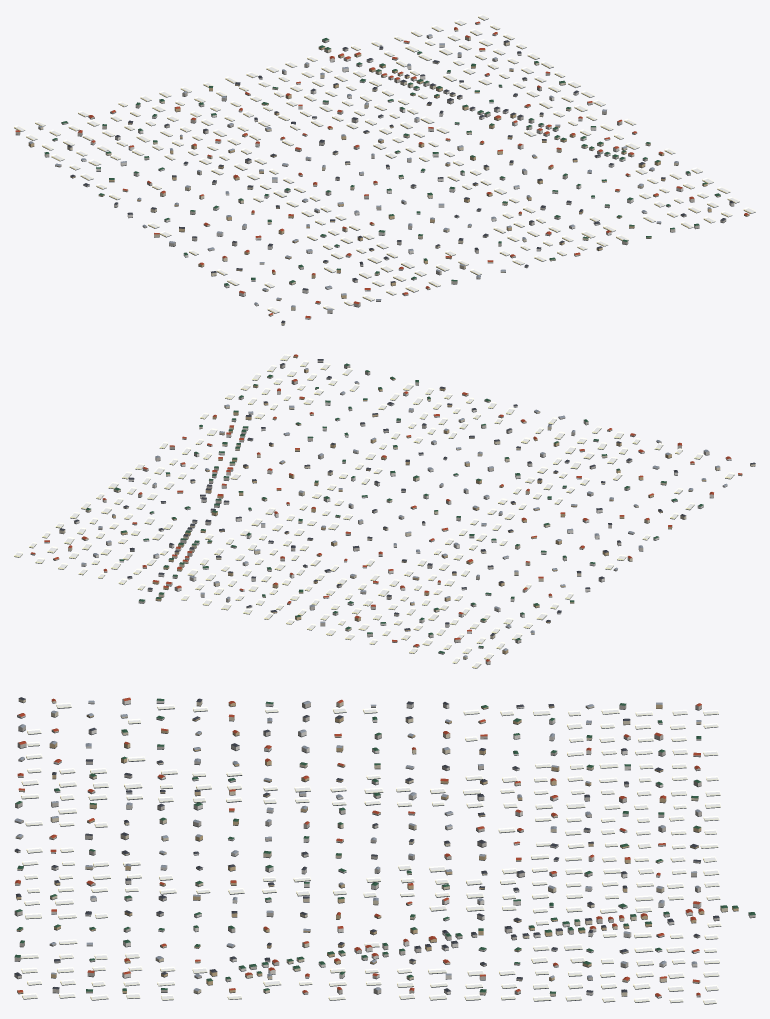
File: buildings_T_E07_S05.glb
The picture shows the model from 3 angles, top to bottom: view 1: azimuth 30°, elevation 25°; view 2: azimuth 150°, elevation 25°; view 3: azimuth 270°, elevation 25°; orthographic projection. The views are drawn at different scales.
Parts seen in each view (by area): view 1: T_E07_S05_roofs_agri_greenhouse_arch, T_E07_S05_slope_seating_foundations, T_E07_S05_walls_wall_pastel_sand_gray, T_E07_S05_walls_wall_modern_warm_white, T_E07_S05_walls_wall_french_ochre_villa, T_E07_S05_roofs_roof_pine_green_hip, T_E07_S05_walls_wall_dalat_cream_stucco, T_E07_S05_roofs_roof_slate_French_villa_hip, T_E07_S05_roofs_roof_terracotta_gable, T_E07_S05_roofs_roof_zinc_silver_gable; view 2: T_E07_S05_roofs_agri_greenhouse_arch, T_E07_S05_slope_seating_foundations, T_E07_S05_walls_wall_pastel_sand_gray, T_E07_S05_walls_wall_modern_warm_white, T_E07_S05_walls_wall_french_ochre_villa, T_E07_S05_roofs_roof_pine_green_hip, T_E07_S05_walls_wall_dalat_cream_stucco, T_E07_S05_roofs_roof_slate_French_villa_hip, T_E07_S05_roofs_roof_terracotta_gable, T_E07_S05_roofs_roof_zinc_silver_gable; view 3: T_E07_S05_roofs_agri_greenhouse_arch, T_E07_S05_slope_seating_foundations, T_E07_S05_walls_wall_pastel_sand_gray, T_E07_S05_walls_wall_modern_warm_white, T_E07_S05_walls_wall_french_ochre_villa, T_E07_S05_roofs_roof_pine_green_hip, T_E07_S05_walls_wall_dalat_cream_stucco, T_E07_S05_roofs_roof_slate_French_villa_hip, T_E07_S05_roofs_roof_terracotta_gable, T_E07_S05_roofs_roof_zinc_silver_gable.
Boxes of the visible parts, bbox=[...] form: T_E07_S05_roofs_agri_greenhouse_arch: bbox=[14, 14, 755, 313]; T_E07_S05_slope_seating_foundations: bbox=[14, 16, 755, 325]; T_E07_S05_walls_wall_pastel_sand_gray: bbox=[15, 22, 734, 313]; T_E07_S05_walls_wall_modern_warm_white: bbox=[81, 33, 683, 319]; T_E07_S05_walls_wall_french_ochre_villa: bbox=[28, 47, 749, 300]; T_E07_S05_roofs_roof_pine_green_hip: bbox=[44, 38, 720, 285]; T_E07_S05_walls_wall_dalat_cream_stucco: bbox=[38, 29, 720, 324]; T_E07_S05_roofs_roof_slate_French_villa_hip: bbox=[67, 40, 733, 323]; T_E07_S05_roofs_roof_terracotta_gable: bbox=[15, 21, 748, 318]; T_E07_S05_roofs_roof_zinc_silver_gable: bbox=[28, 34, 711, 310]; T_E07_S05_roofs_agri_greenhouse_arch: bbox=[14, 354, 734, 668]; T_E07_S05_slope_seating_foundations: bbox=[14, 356, 755, 668]; T_E07_S05_walls_wall_pastel_sand_gray: bbox=[31, 360, 709, 664]; T_E07_S05_walls_wall_modern_warm_white: bbox=[44, 391, 731, 633]; T_E07_S05_walls_wall_french_ochre_villa: bbox=[112, 356, 706, 653]; T_E07_S05_roofs_roof_pine_green_hip: bbox=[86, 363, 703, 653]; T_E07_S05_walls_wall_dalat_cream_stucco: bbox=[53, 376, 755, 659]; T_E07_S05_roofs_roof_slate_French_villa_hip: bbox=[59, 359, 755, 635]; T_E07_S05_roofs_roof_terracotta_gable: bbox=[30, 354, 741, 661]; T_E07_S05_roofs_roof_zinc_silver_gable: bbox=[81, 368, 727, 657]; T_E07_S05_roofs_agri_greenhouse_arch: bbox=[20, 702, 721, 1003]; T_E07_S05_slope_seating_foundations: bbox=[14, 701, 755, 1004]; T_E07_S05_walls_wall_pastel_sand_gray: bbox=[14, 702, 755, 996]; T_E07_S05_walls_wall_modern_warm_white: bbox=[17, 699, 701, 997]; T_E07_S05_walls_wall_french_ochre_villa: bbox=[16, 703, 738, 993]; T_E07_S05_roofs_roof_pine_green_hip: bbox=[14, 698, 755, 993]; T_E07_S05_walls_wall_dalat_cream_stucco: bbox=[15, 699, 727, 996]; T_E07_S05_roofs_roof_slate_French_villa_hip: bbox=[14, 697, 719, 992]; T_E07_S05_roofs_roof_terracotta_gable: bbox=[15, 697, 704, 996]; T_E07_S05_roofs_roof_zinc_silver_gable: bbox=[15, 700, 701, 991].
Size of the model in its own units: 1735 by 43.38 by 1834.
